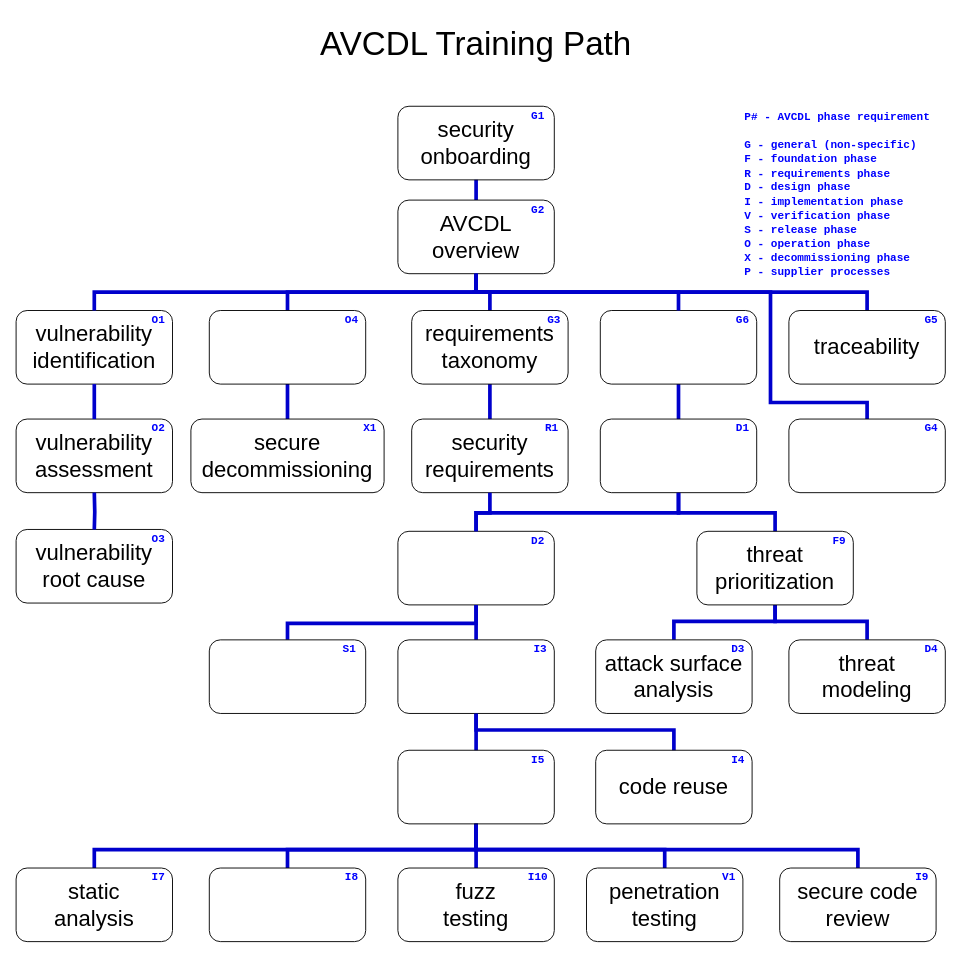
The diagram is 961 pixels wide and 958 high, and some of its shapes have lost their labels. Each missing label, with the box of its shape:
apply secure design: (599, 418, 757, 493)
dynamic analysis: (208, 867, 366, 942)
final security review: (208, 639, 366, 713)
handling PII: (788, 418, 945, 493)
secure coding: (397, 749, 554, 824)
secure deployment: (208, 310, 366, 384)
secure design principles: (599, 310, 757, 384)
secure design review: (397, 530, 554, 605)
secure settings: (397, 639, 554, 713)
